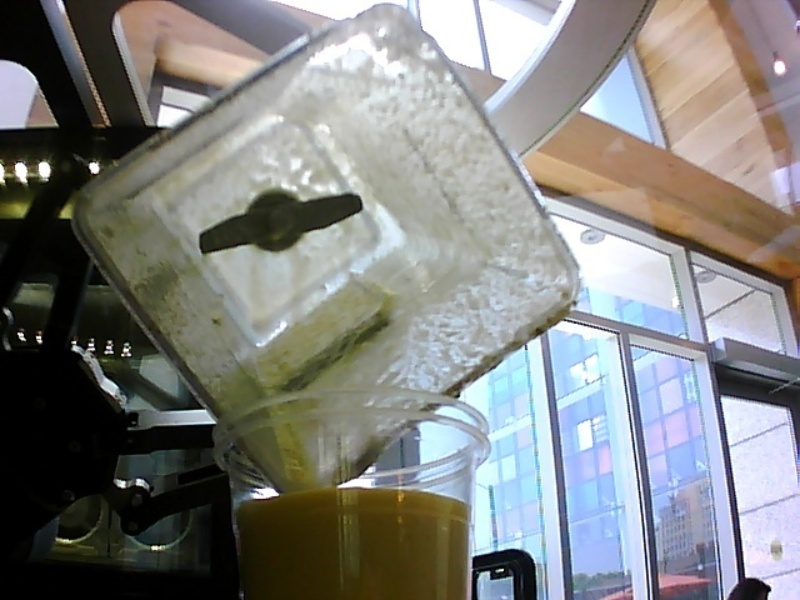cup: (205, 385, 493, 600)
limit: (230, 481, 477, 512)
